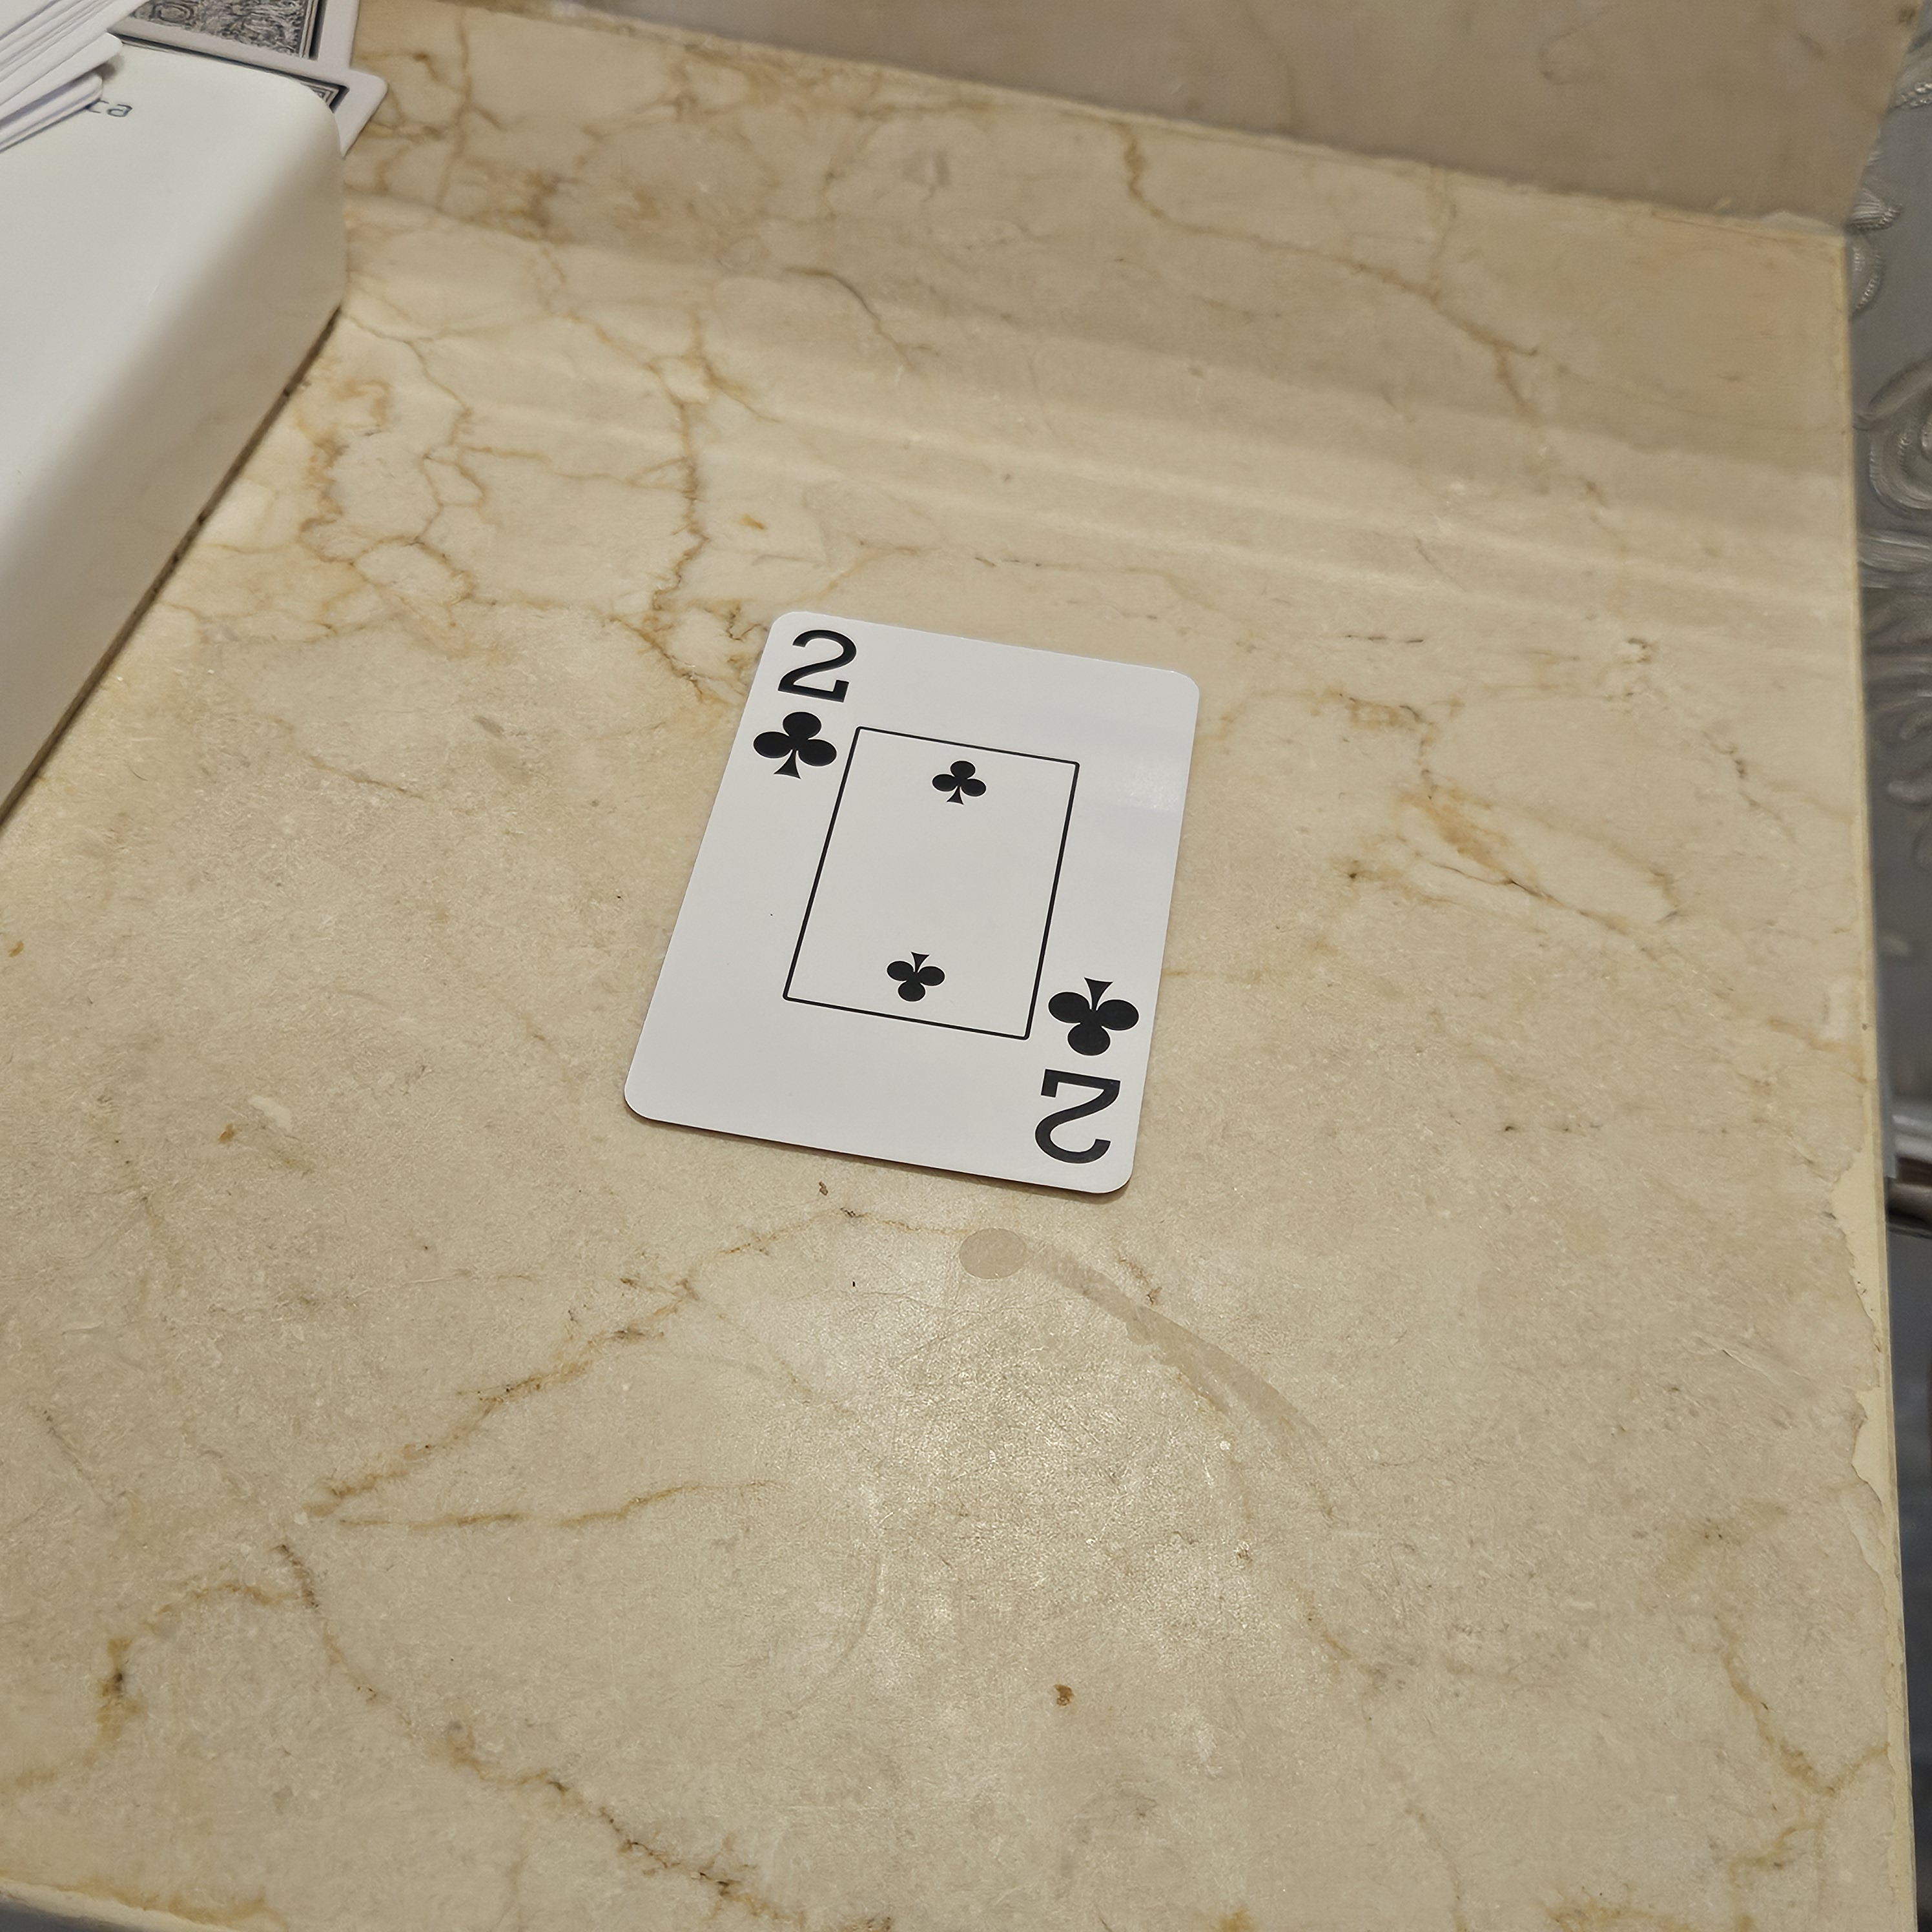2P: (1012, 962, 1148, 1187), (731, 609, 867, 798)
